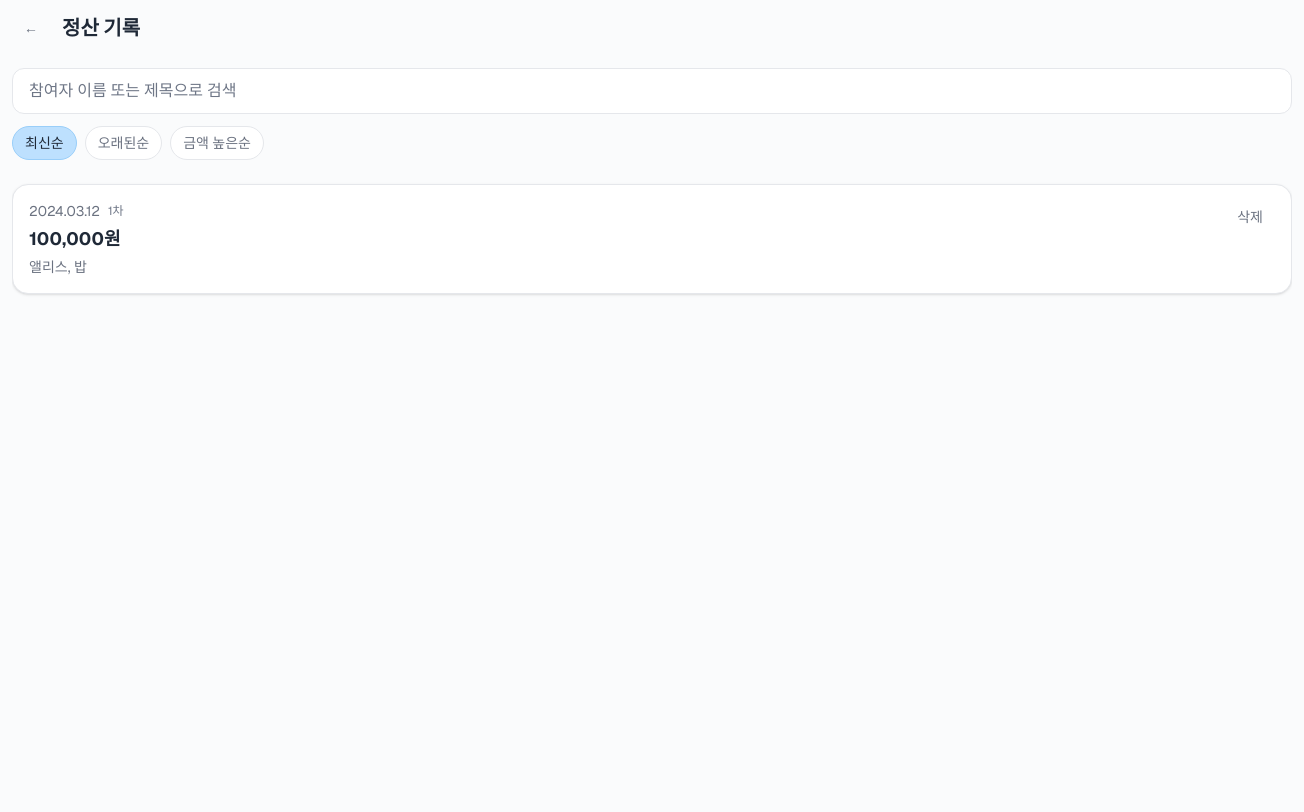
it: HistoryPage - 확장/축소 › 확장 시 송금 요약(transfer) 정보를 표시
Click the button with aria-label "정산 기록". click: (64, 211)
box: [12,184,1292,294]
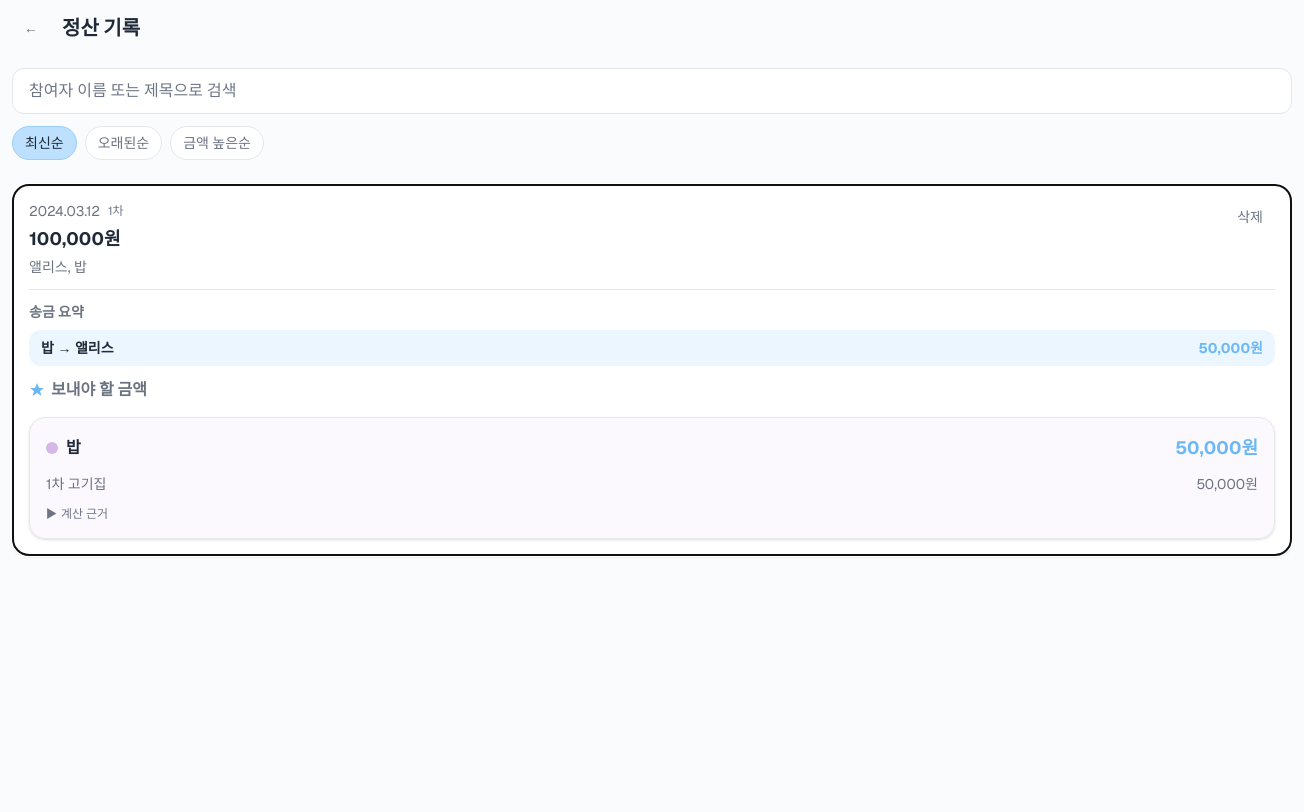
expect the heading "송금 요약" is shown: met, box [29,303,84,321]
